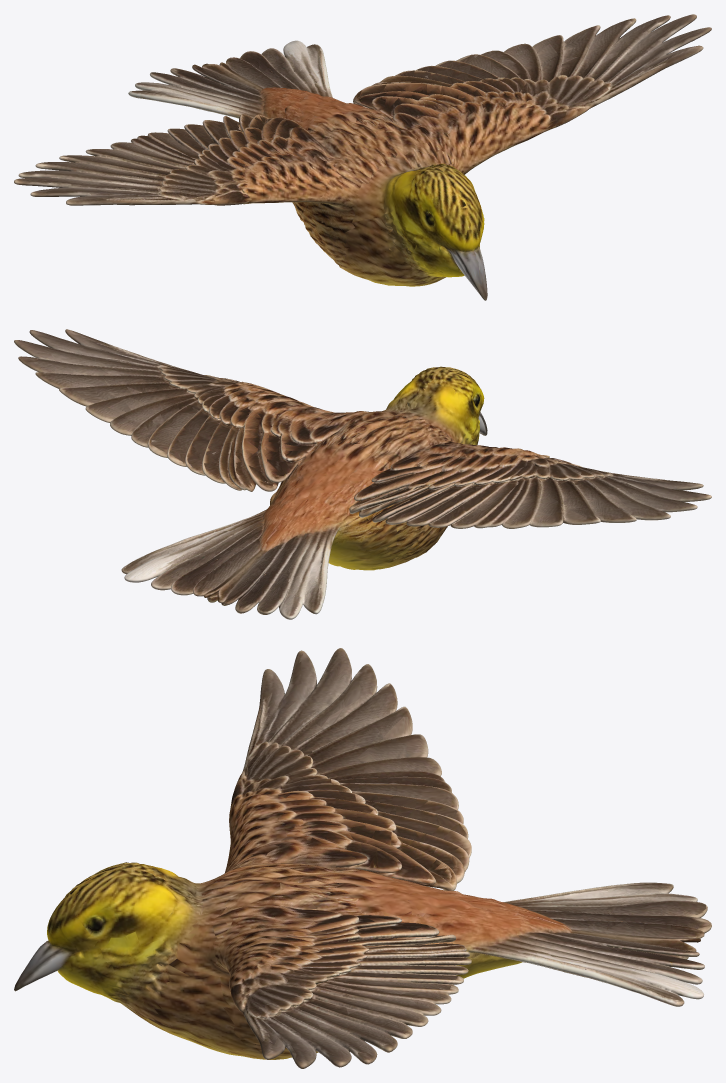
Rendered from Emberiza_citrinella.glb.
3 views of the same model, one above another, from view 1: azimuth 30°, elevation 25°; view 2: azimuth 150°, elevation 25°; view 3: azimuth 270°, elevation 25° (orthographic). The views are drawn at different scales.
Parts seen in each view (by area): view 1: orient; view 2: orient; view 3: orient.
Part boxes in pixels (x1,y1,x2,y2): orient: (14,14,711,300); orient: (14,329,711,619); orient: (14,648,711,1068).
Bounding box in the file's own units: 0.5 × 0.1094 × 0.3539.
Materials: 1 (1 with a texture image).
